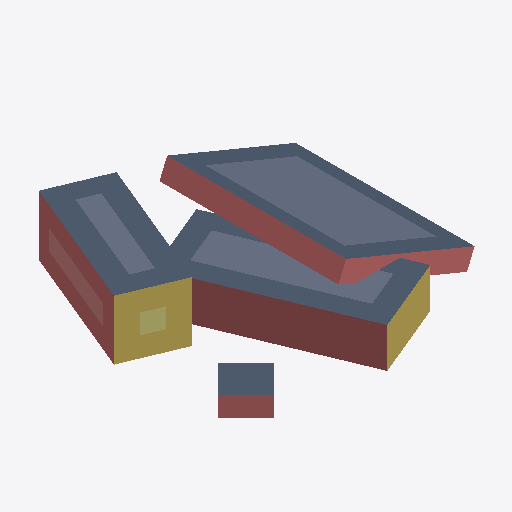
Isometric view (azimuth 45°, elevation 35.3°) of a Minecraft model made of 4 cuboids, textured from the same repository.
Visible parts, largest first — sheet, ingot, cylinder, bolt.
Part boxes in pixels (bbox=[...]): sheet: bbox=[160, 143, 474, 284]; ingot: bbox=[170, 209, 429, 370]; cylinder: bbox=[39, 172, 191, 364]; bolt: bbox=[218, 363, 273, 417].
Size of the model in its own units: 13.6 by 3.6 by 13.61.